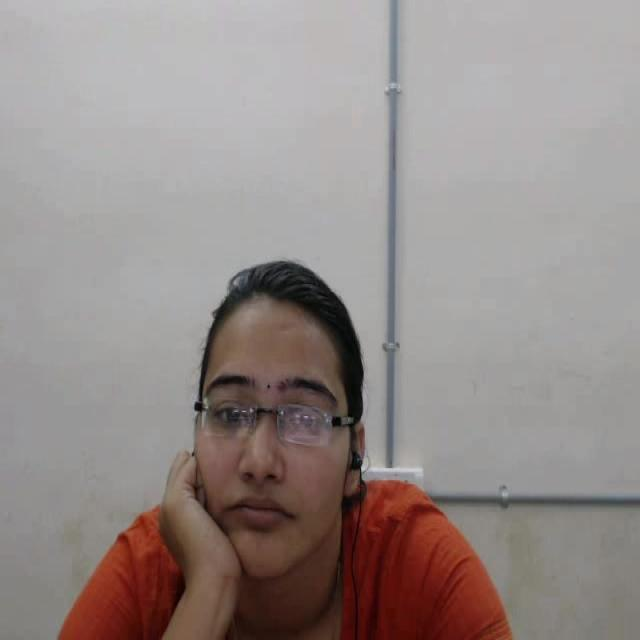Bored: (114, 220, 395, 640)
